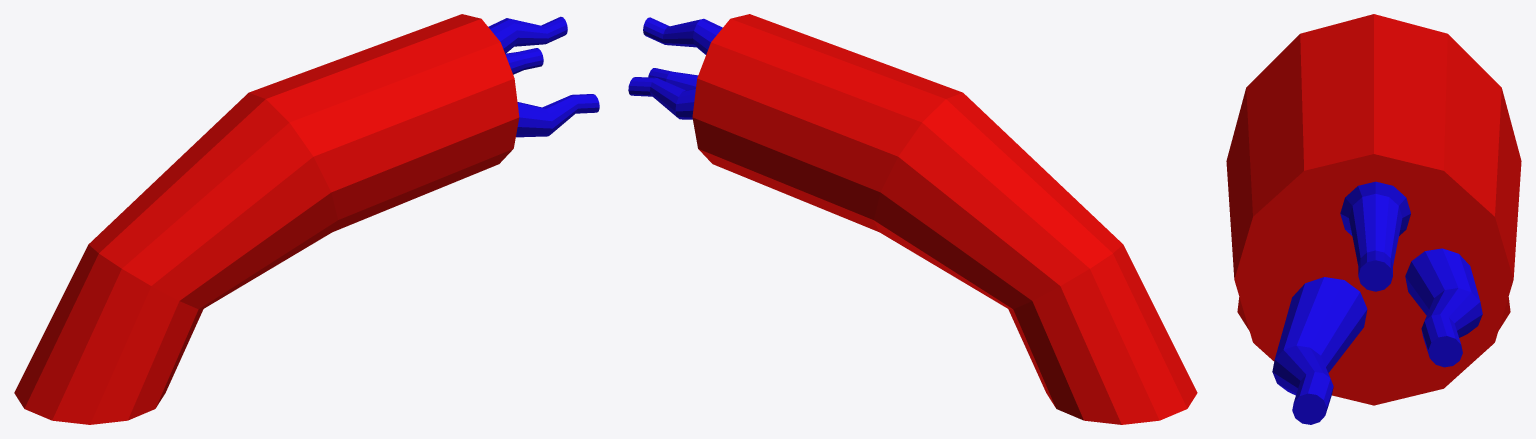
The model's file is minigame_fix.fbx.
3 renders of one model, left to right at view 1: azimuth 30°, elevation 25°; view 2: azimuth 150°, elevation 25°; view 3: azimuth 270°, elevation 25°, orthographic. The views are drawn at different scales.
Visible parts, largest first — view 1: Circle.003; view 2: Circle.003; view 3: Circle.003.
Part boxes in pixels (x1=…): Circle.003: x1=14, y1=14, x2=599, y2=424; Circle.003: x1=628, y1=14, x2=1197, y2=424; Circle.003: x1=1226, y1=14, x2=1521, y2=424.
Bounding box in the file's own units: 648 × 312 × 166.
